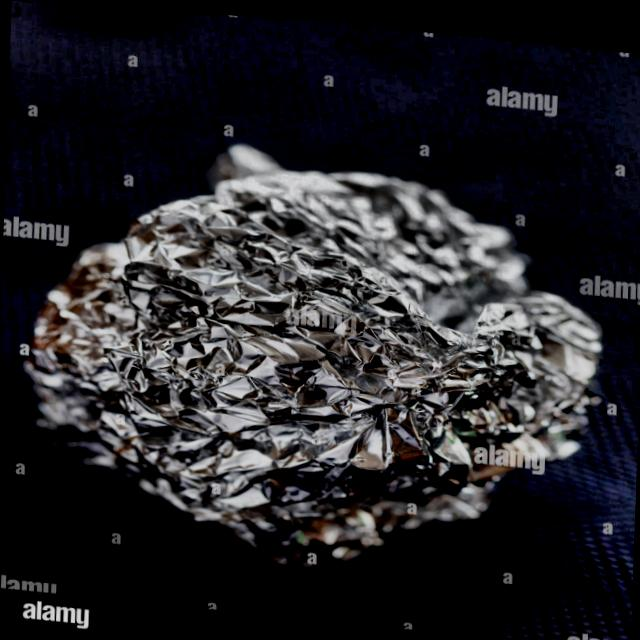Foil: (20, 99, 640, 581)
